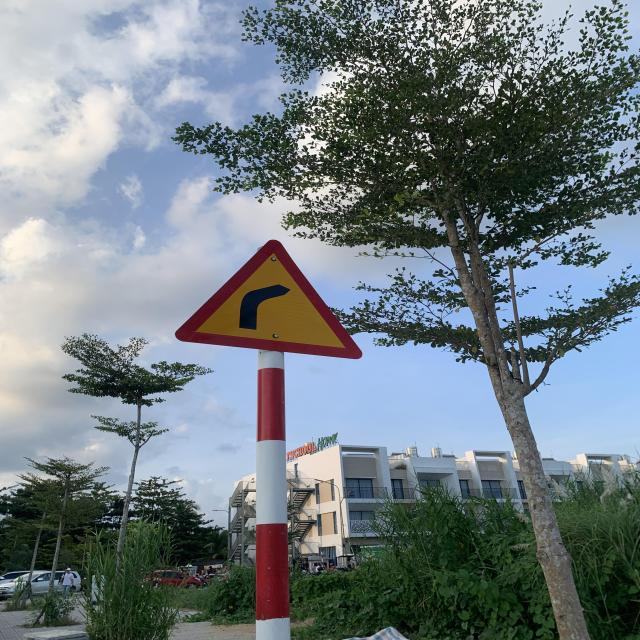Duong_Nguoi_Di_Bo_Cat_Ngang: (174, 231, 358, 356)
